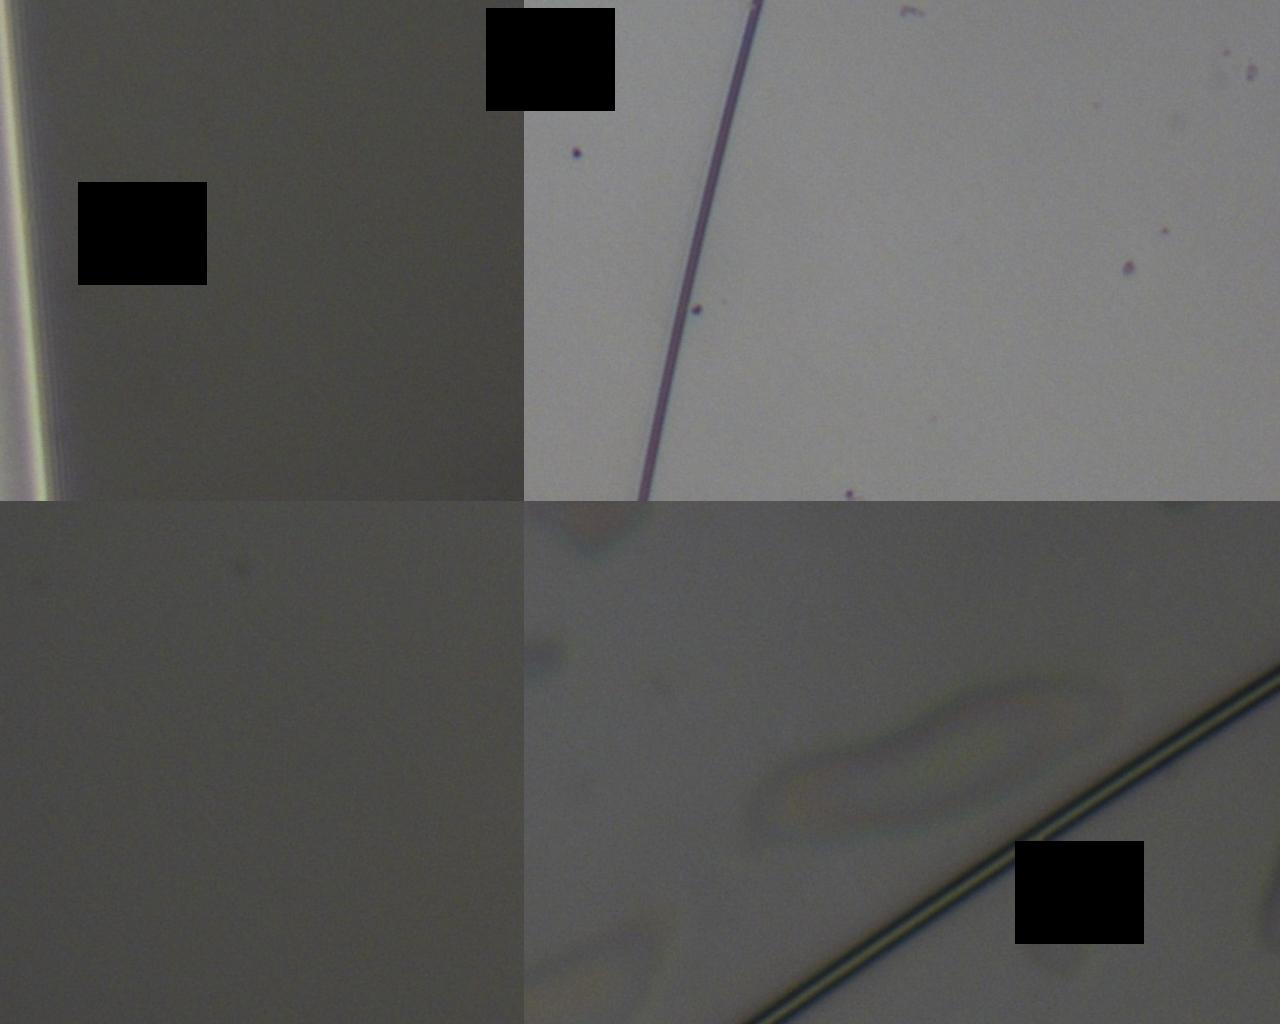fiber: (654, 0, 874, 1024)
